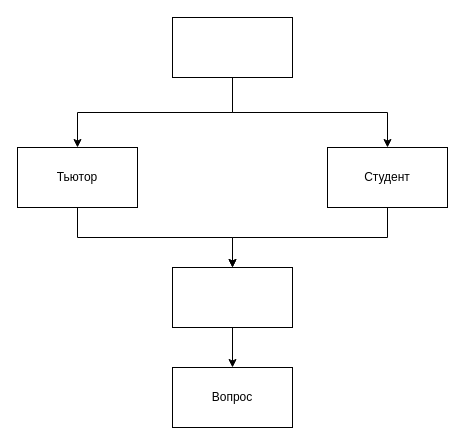
Image size: 465x445. Some labels were removed from this diagram. The centre of each missing label's shape, as x and y in pixels:
"Все точки зрения" goes at point 232,47.
"Тест" goes at point 232,297.
